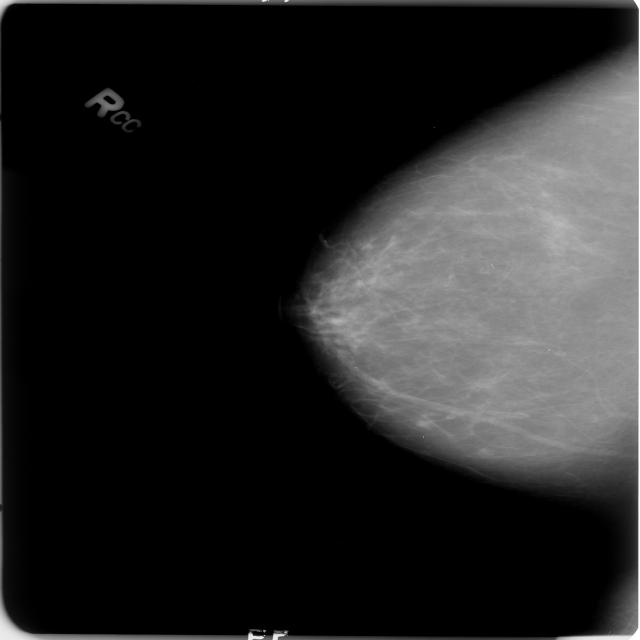normal: (268, 55, 640, 479)
